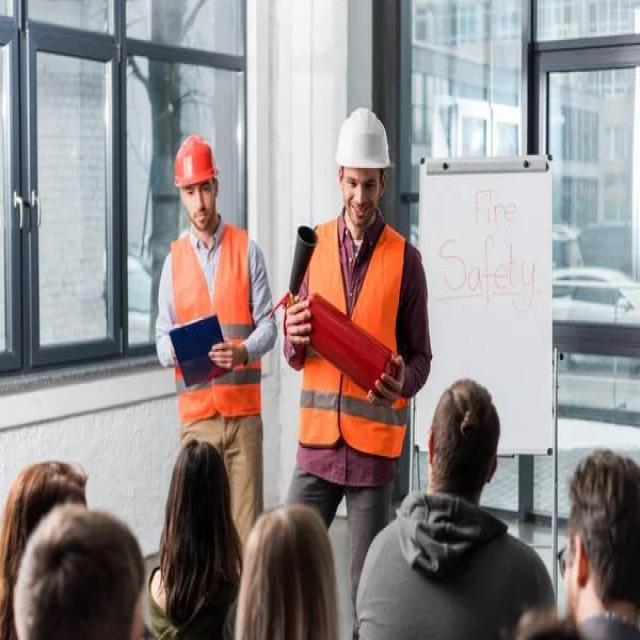fire_extinguisher: (269, 215, 403, 406)
